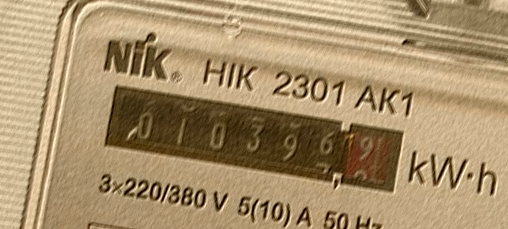0: (205, 116, 232, 152), (133, 106, 158, 141)
1: (174, 111, 191, 146)
3: (244, 119, 267, 155)
6: (316, 125, 341, 157)
9: (277, 128, 302, 164), (353, 132, 378, 164)
screen: (88, 69, 417, 207)
